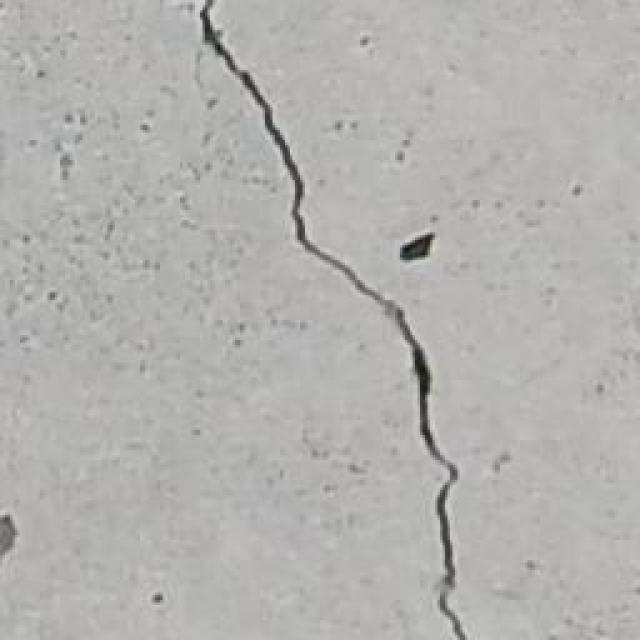concrete-crack: (202, 0, 468, 640)
